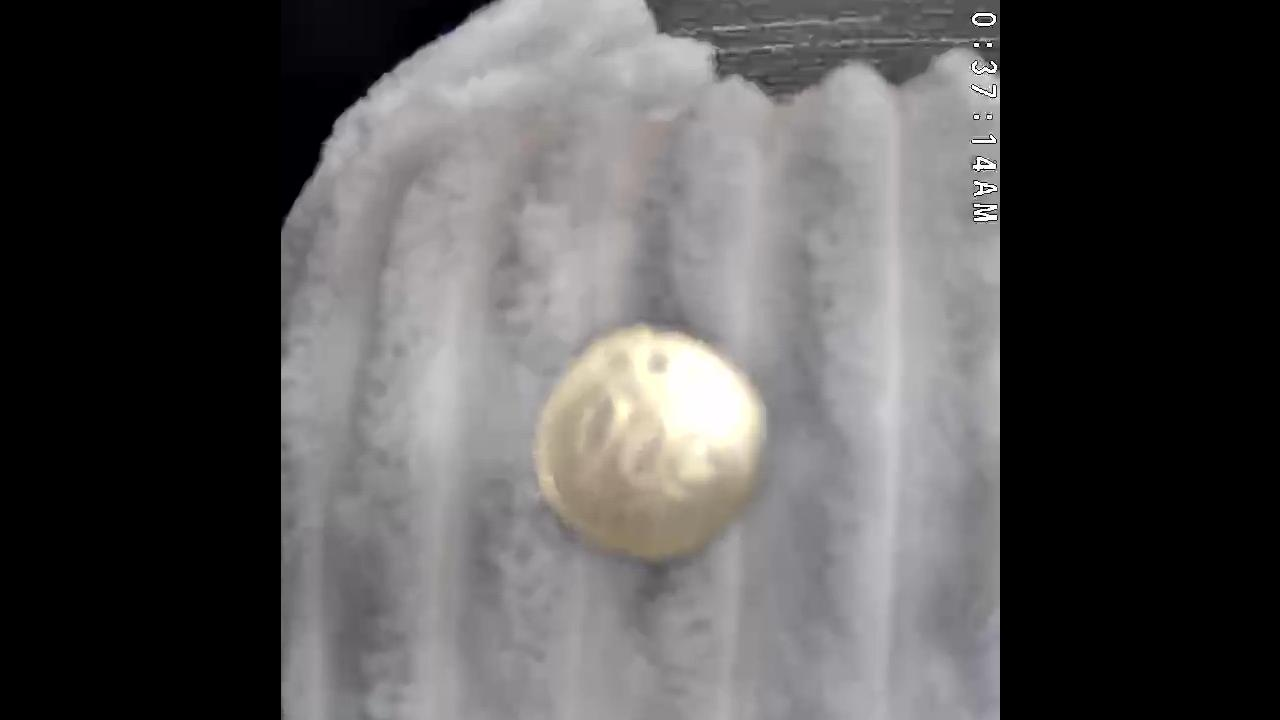coin: (534, 322, 770, 566)
